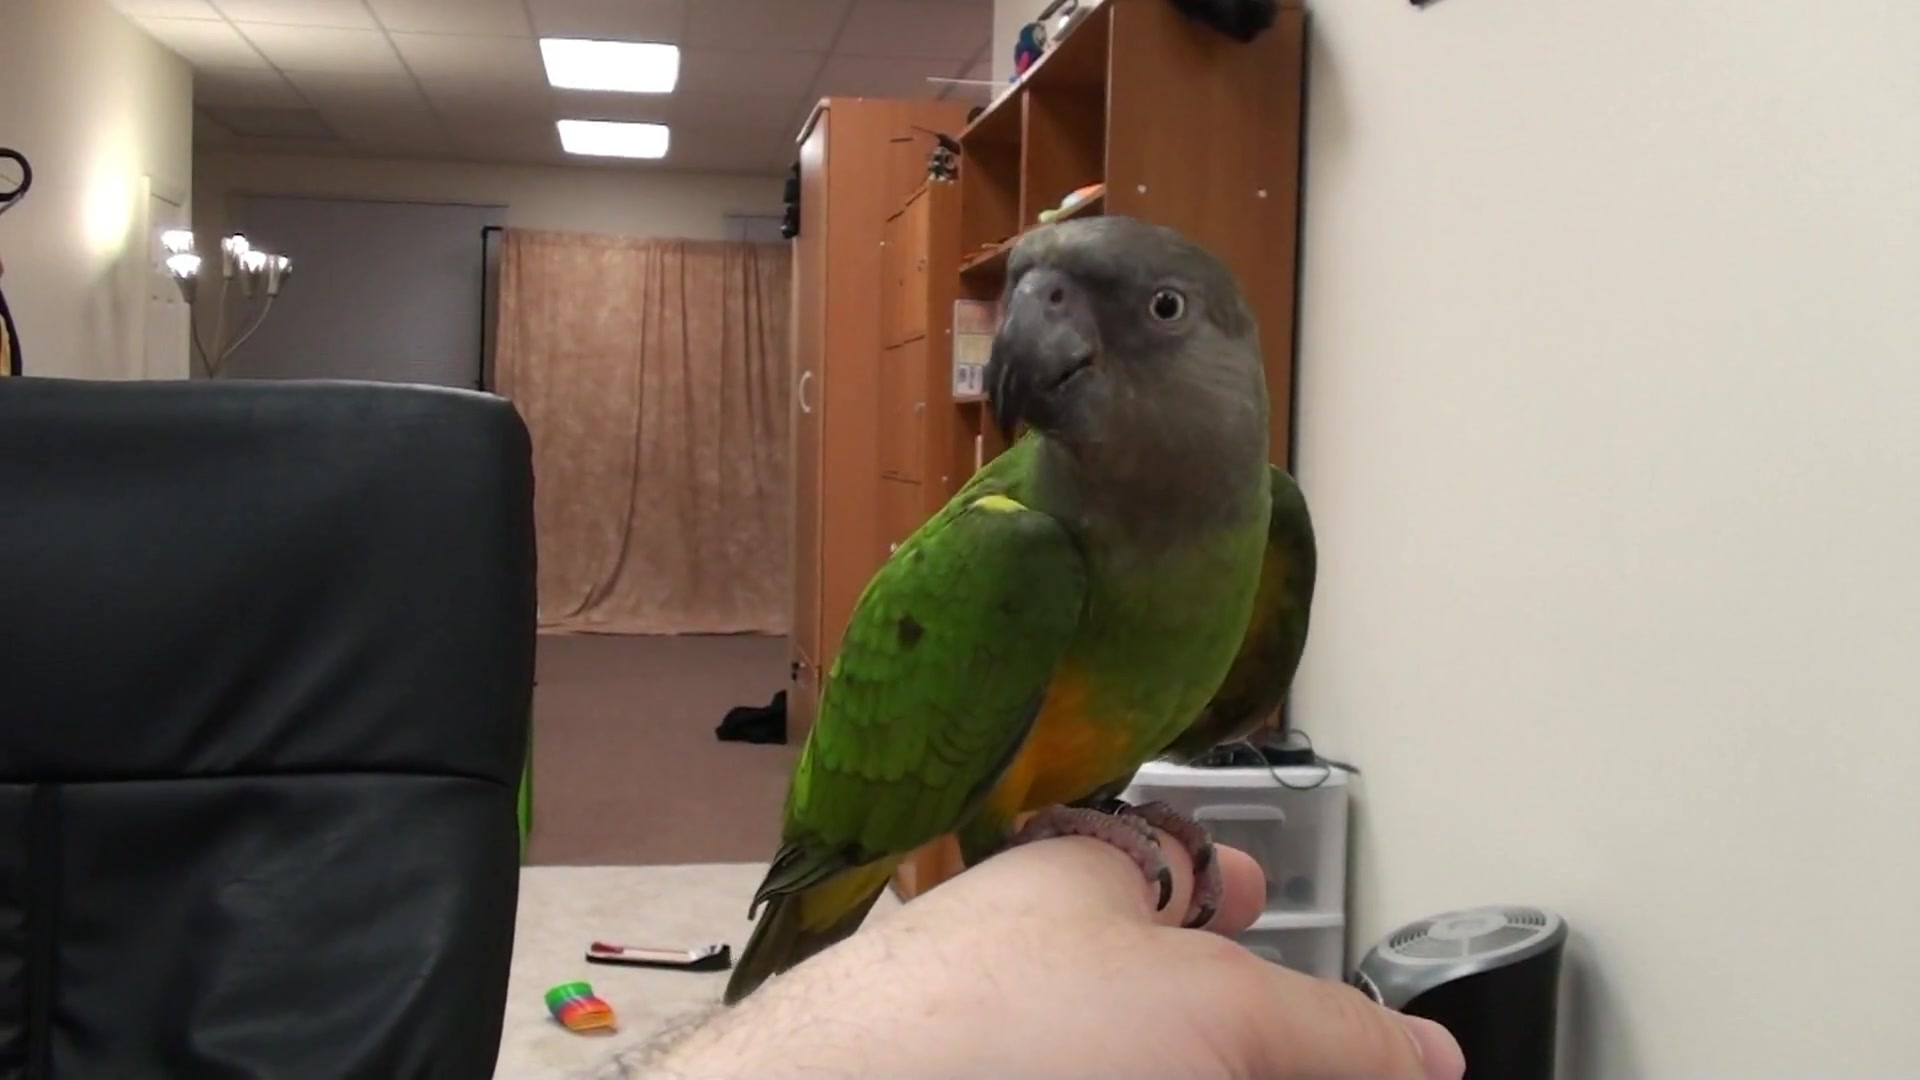bird: (720, 214, 1321, 1009)
